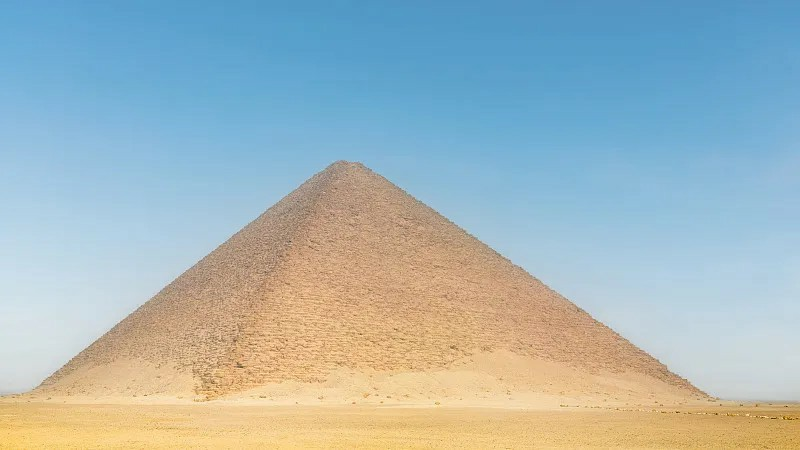Pyramid: (30, 160, 713, 399)
